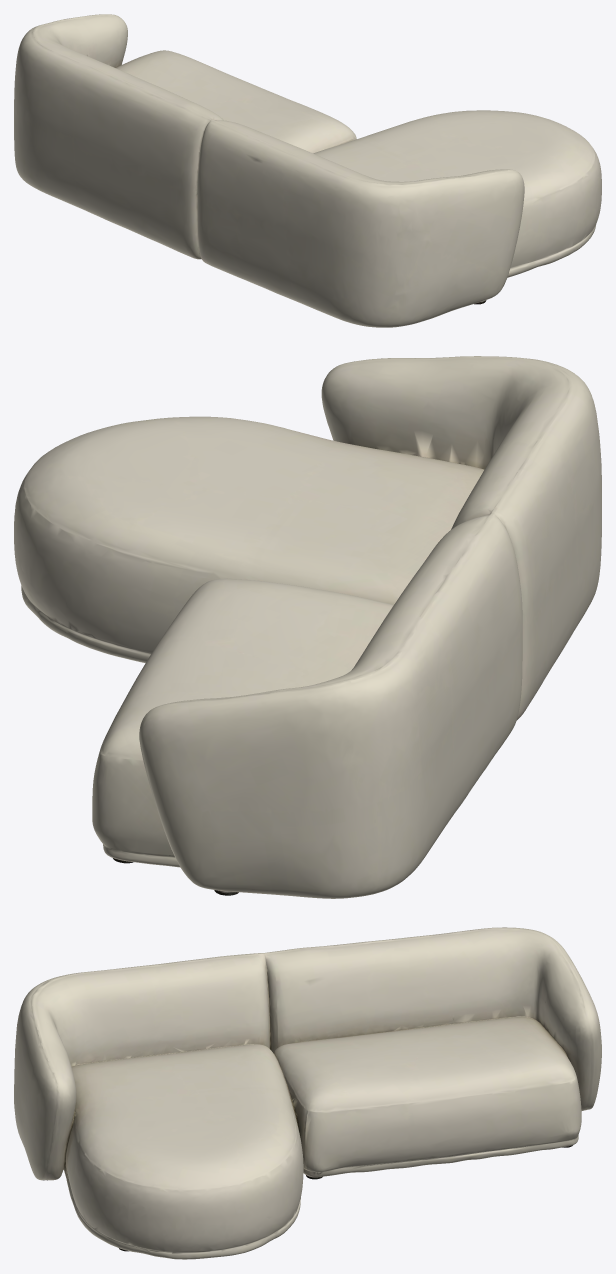
Rendered from caravanafurniture-com-products-2pc-right-facing-cream-boucle-e8dc5c.glb.
The picture shows the model from 3 angles, top to bottom: view 1: azimuth 30°, elevation 25°; view 2: azimuth 150°, elevation 25°; view 3: azimuth 270°, elevation 25°; orthographic projection. The views are drawn at different scales.
Parts seen in each view (by area): view 1: tripo_node_8b6ecc6b-4135-4ac2-97fb-19b2136b8307; view 2: tripo_node_8b6ecc6b-4135-4ac2-97fb-19b2136b8307; view 3: tripo_node_8b6ecc6b-4135-4ac2-97fb-19b2136b8307.
Boxes of the visible parts, left/top/right/bottom form: tripo_node_8b6ecc6b-4135-4ac2-97fb-19b2136b8307: left=14, top=14, right=601, bottom=327; tripo_node_8b6ecc6b-4135-4ac2-97fb-19b2136b8307: left=14, top=356, right=601, bottom=898; tripo_node_8b6ecc6b-4135-4ac2-97fb-19b2136b8307: left=14, top=927, right=601, bottom=1259.
Bounding box in the file's own units: 0.8122 × 0.2731 × 0.998.
Materials: 1 (1 with a texture image).
